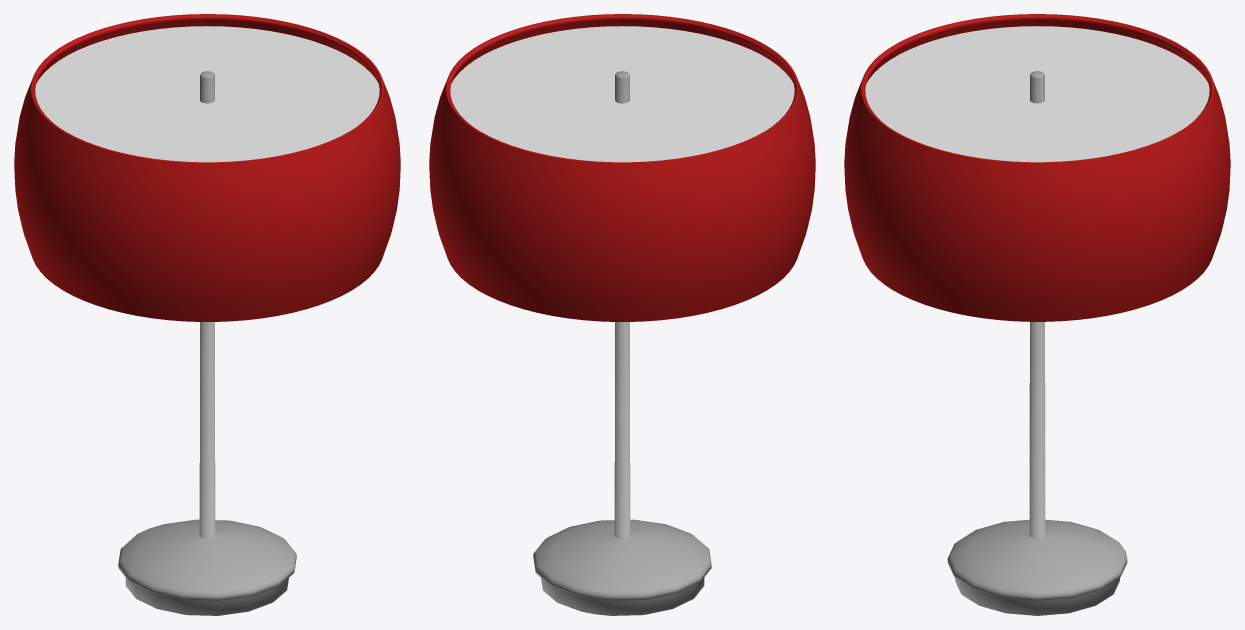
File: table_lamp.FBX
3 renders of one model, left to right at view 1: azimuth 30°, elevation 25°; view 2: azimuth 150°, elevation 25°; view 3: azimuth 270°, elevation 25°, orthographic.
Parts seen in each view (by area): view 1: table_lamp; view 2: table_lamp; view 3: table_lamp.
Part boxes in pixels (bbox=[...]): table_lamp: bbox=[14, 14, 400, 615]; table_lamp: bbox=[429, 14, 815, 615]; table_lamp: bbox=[844, 14, 1230, 615].
Size of the model in its own units: 26.62 by 38.59 by 26.63.
